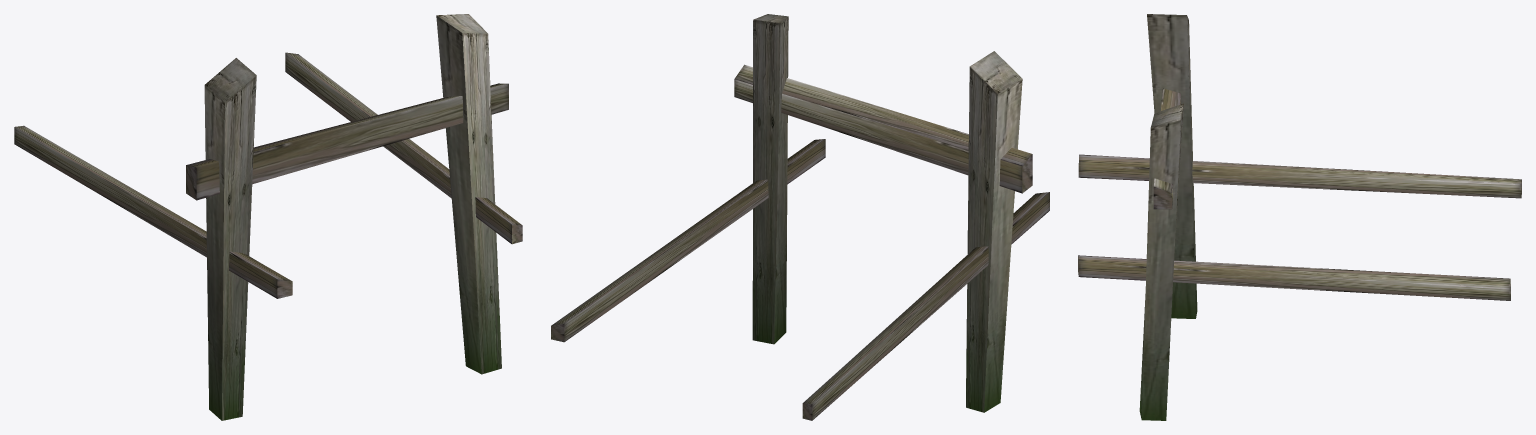
File: pir_m_prp_cem_tombStakes_2.fbx
The picture shows the model from 3 angles, left to right: view 1: azimuth 30°, elevation 25°; view 2: azimuth 150°, elevation 25°; view 3: azimuth 270°, elevation 25°; orthographic projection. The views are drawn at different scales.
Parts seen in each view (by area): view 1: post_04, post_05, post_01, post_03, post_02; view 2: post_05, post_04, post_01, post_02, post_03; view 3: post_02, post_03, post_04, post_05, post_01.
Boxes of the visible parts, x1,y1,x2,y2 form: post_04: [436, 14, 501, 374]; post_05: [204, 58, 256, 420]; post_01: [186, 83, 508, 200]; post_03: [14, 125, 292, 298]; post_02: [285, 52, 522, 244]; post_05: [966, 51, 1022, 412]; post_04: [752, 14, 788, 344]; post_01: [734, 64, 1032, 193]; post_02: [551, 139, 825, 342]; post_03: [802, 192, 1049, 420]; post_02: [1078, 255, 1510, 300]; post_03: [1078, 154, 1521, 198]; post_04: [1139, 103, 1183, 420]; post_05: [1147, 14, 1197, 318]; post_01: [1153, 88, 1180, 209].
Bounding box in the file's own units: 467 × 513 × 676.
1 material, 1 textured.
